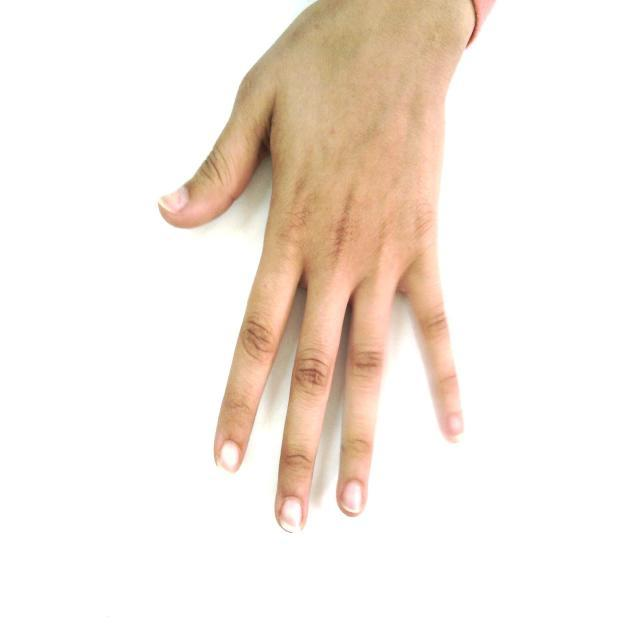Fingernail: (281, 498, 302, 532), (342, 481, 362, 513), (162, 188, 187, 213), (220, 442, 240, 472), (448, 415, 463, 439)
